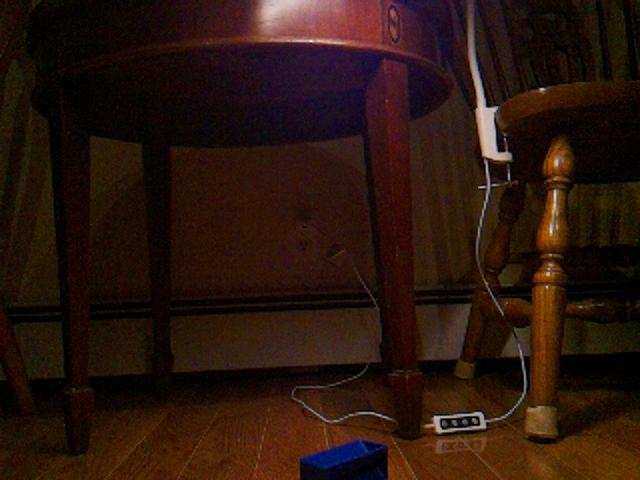blue: (298, 437, 391, 480)
